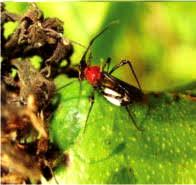Helopeltis-insect: (78, 59, 146, 110)
